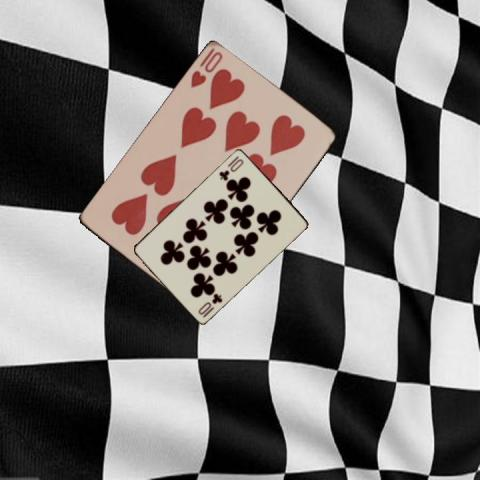10c: (216, 153, 245, 182), (195, 290, 224, 319)
10h: (187, 45, 225, 90)
